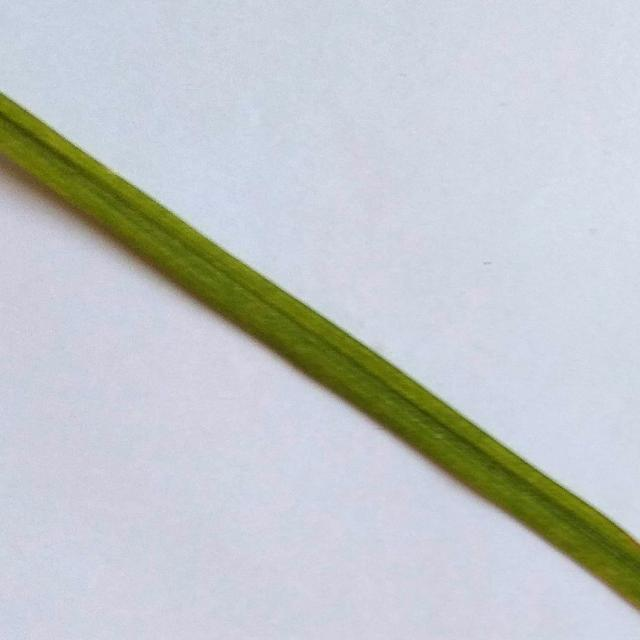Rice_Healthy: (0, 93, 640, 607)
